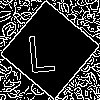L: (25, 25, 56, 73)
